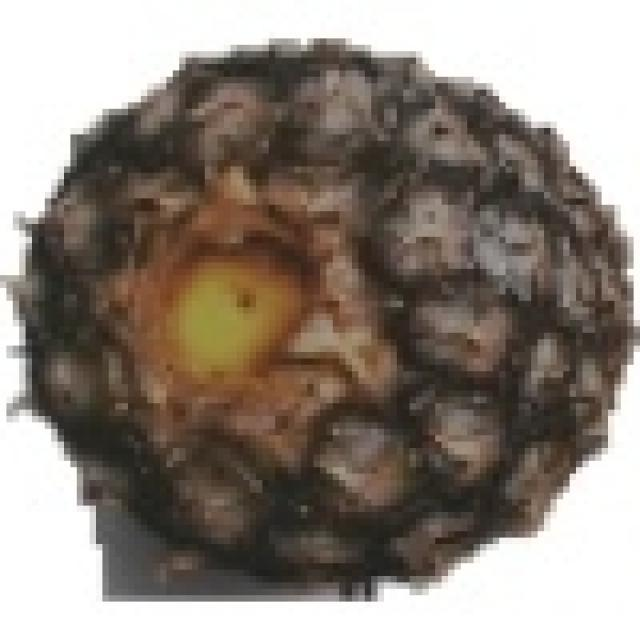pineapple: (32, 32, 640, 582)
